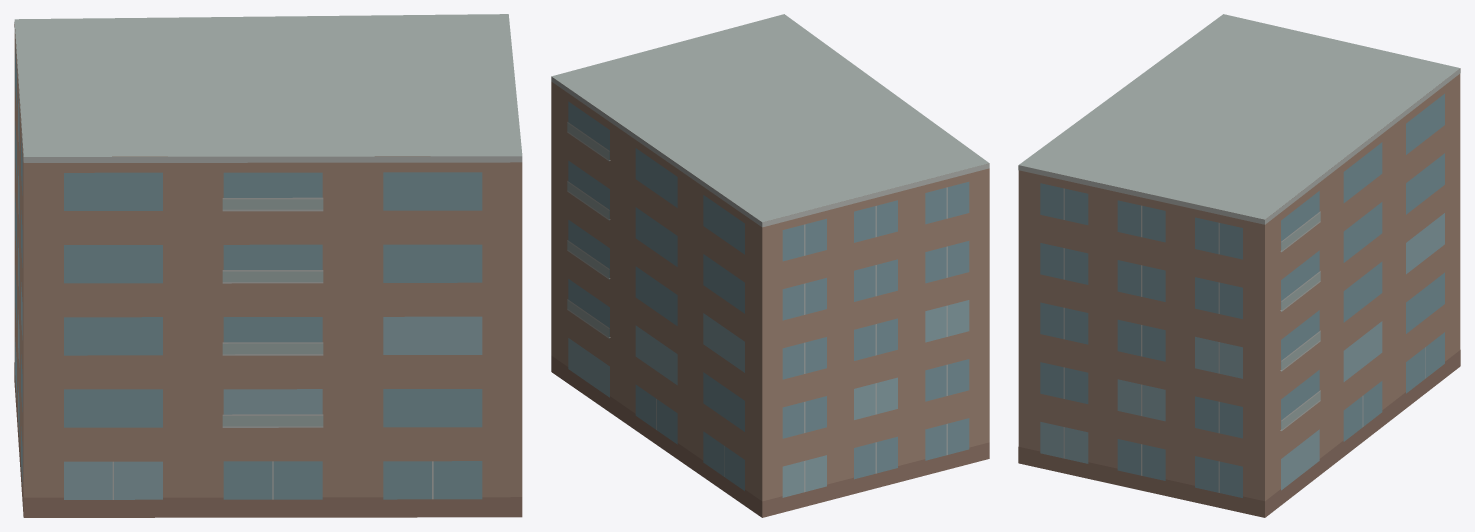
Rendered from survey-upis-32979960.glb.
3 renders of one model, left to right at view 1: azimuth 30°, elevation 25°; view 2: azimuth 150°, elevation 25°; view 3: azimuth 270°, elevation 25°, orthographic. The views are drawn at different scales.
Parts seen in each view (by area): view 1: survey-upis-32979960.tmp; view 2: survey-upis-32979960.tmp; view 3: survey-upis-32979960.tmp.
Part boxes in pixels (<box>): survey-upis-32979960.tmp: <box>14,14,522,517</box>; survey-upis-32979960.tmp: <box>551,14,989,517</box>; survey-upis-32979960.tmp: <box>1018,14,1460,517</box>.
Bounding box in the file's own units: 21.01 × 14.2 × 19.08.
